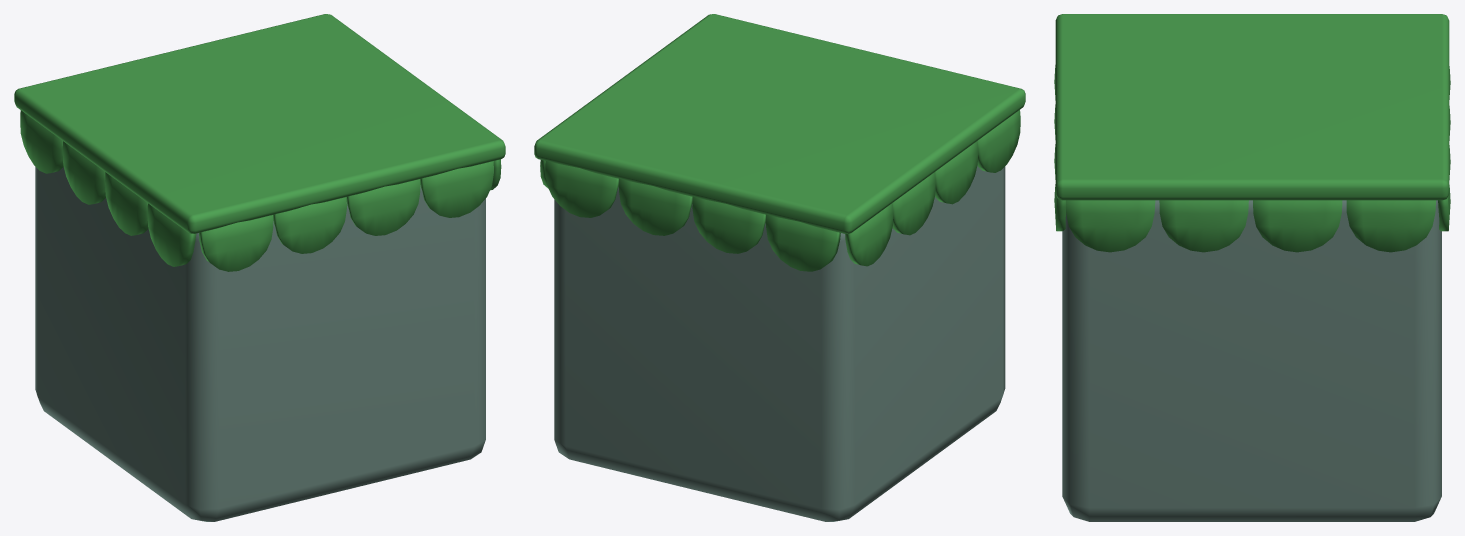
File: BlockGrass.fbx
3 renders of one model, left to right at view 1: azimuth 30°, elevation 25°; view 2: azimuth 150°, elevation 25°; view 3: azimuth 270°, elevation 25°, orthographic. The views are drawn at different scales.
Visible parts, largest first — view 1: pCube3, GrassRound5; view 2: pCube3, GrassRound5; view 3: pCube3, GrassRound5.
Boxes of the visible parts, box(x1,y1,x2,y2) form: pCube3: box(14, 14, 505, 521); GrassRound5: box(20, 110, 501, 271); pCube3: box(534, 14, 1025, 521); GrassRound5: box(540, 110, 1020, 271); pCube3: box(1055, 14, 1449, 521); GrassRound5: box(1054, 65, 1450, 252).
Size of the model in its own units: 2.58 by 2.5 by 2.52.
